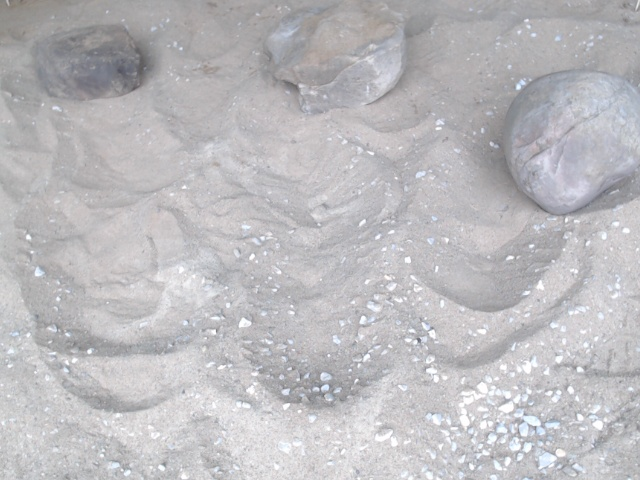rock: (495, 64, 640, 222), (254, 1, 411, 120), (27, 19, 147, 106)
